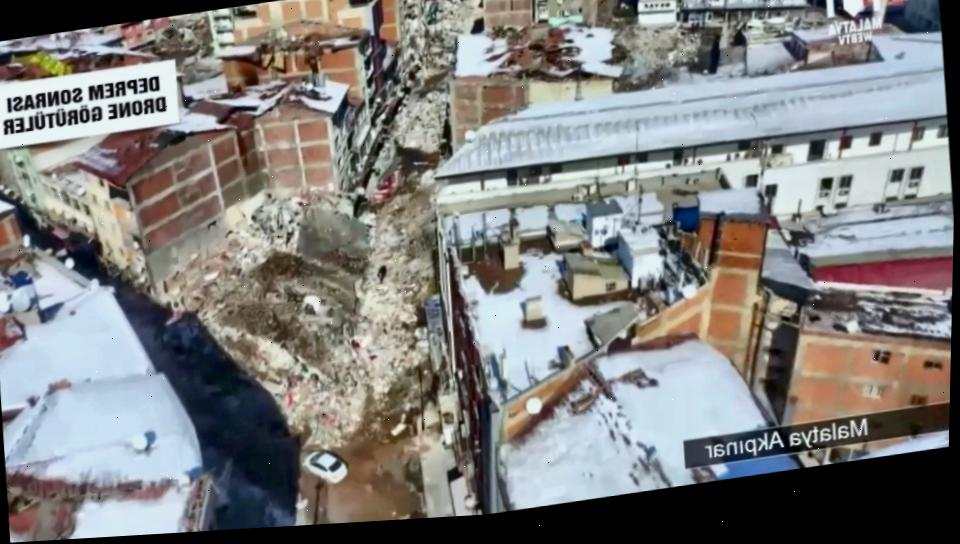kapali: (312, 167, 440, 510), (374, 77, 451, 167), (415, 0, 483, 76)
